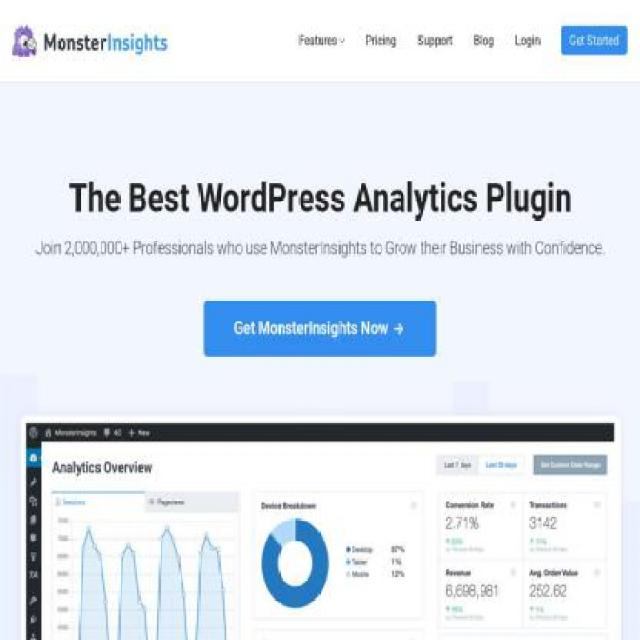button: (204, 300, 436, 357), (12, 25, 168, 57), (560, 26, 628, 56), (298, 26, 345, 56), (417, 26, 454, 56), (365, 26, 397, 56), (514, 26, 540, 56), (473, 26, 495, 56)
